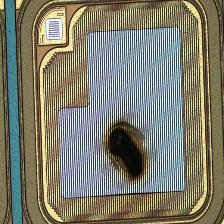PO CONTAMINATION: (100, 119, 154, 187)
